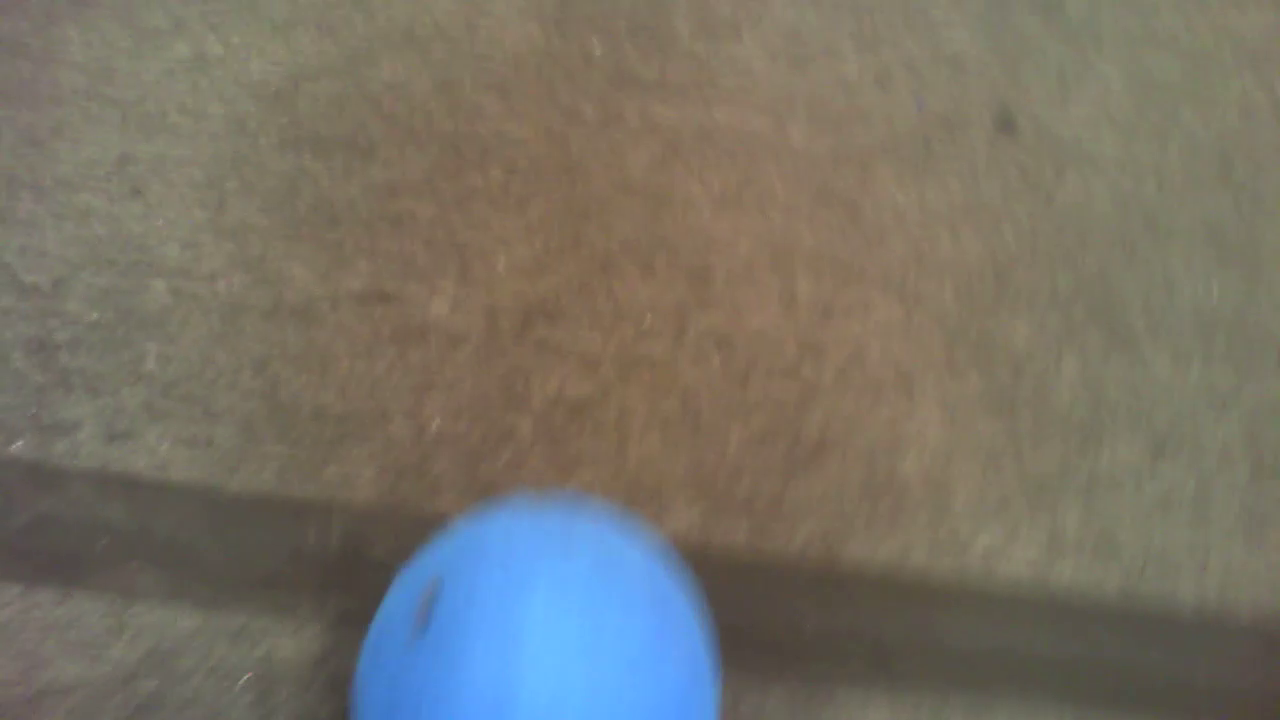blue_cargo: (345, 463, 708, 720)
